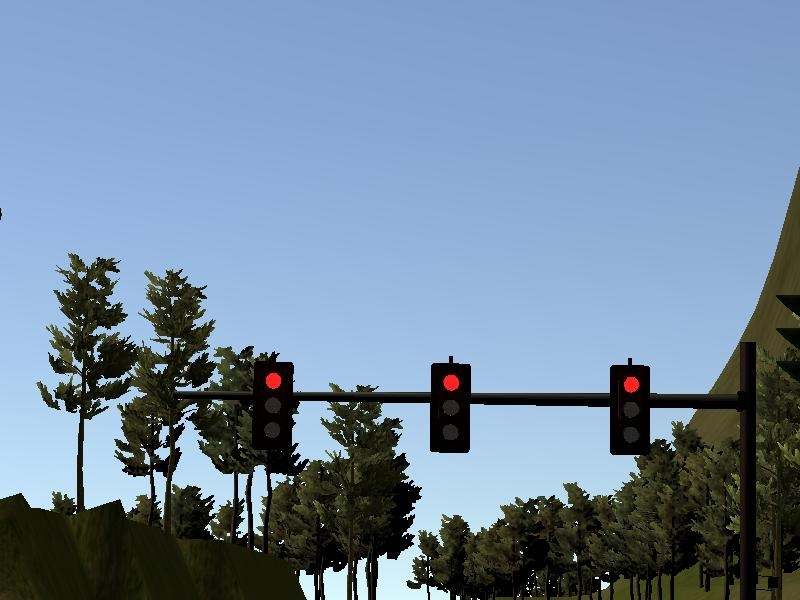red: (606, 359, 653, 457), (251, 358, 295, 459), (428, 358, 473, 455)
